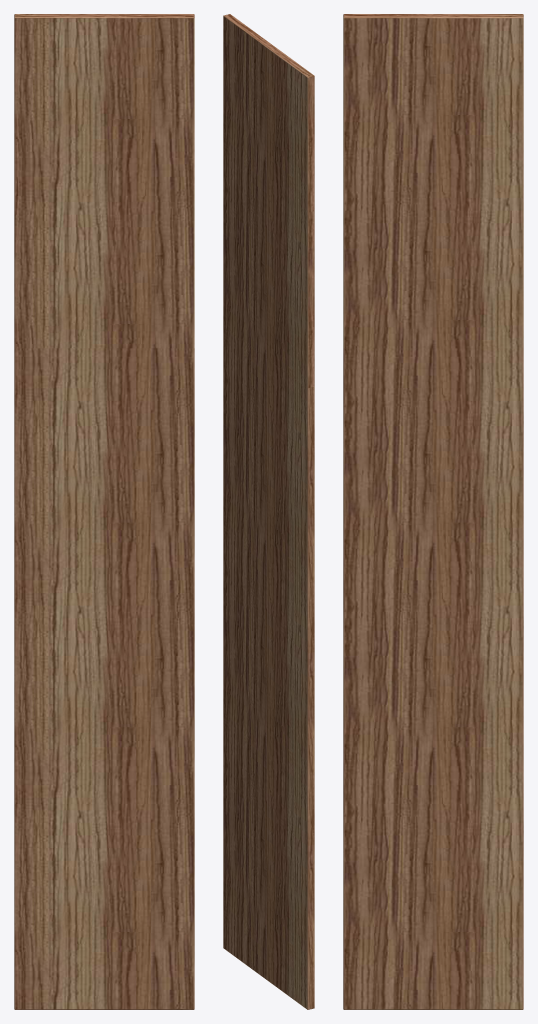
The model's file is side_plate.fbx.
The picture shows the model from 3 angles, left to right: view 1: azimuth 90°, elevation 25°; view 2: azimuth 210°, elevation 25°; view 3: azimuth 270°, elevation 25°; orthographic projection. The views are drawn at different scales.
Parts seen in each view (by area): view 1: polySurface3; view 2: polySurface3; view 3: polySurface3.
Boxes of the visible parts, <box> form: polySurface3: <box>14,14,194,1009</box>; polySurface3: <box>223,14,314,1009</box>; polySurface3: <box>343,14,523,1009</box>.
Bounding box in the file's own units: 1.9 × 37.9 × 230.
